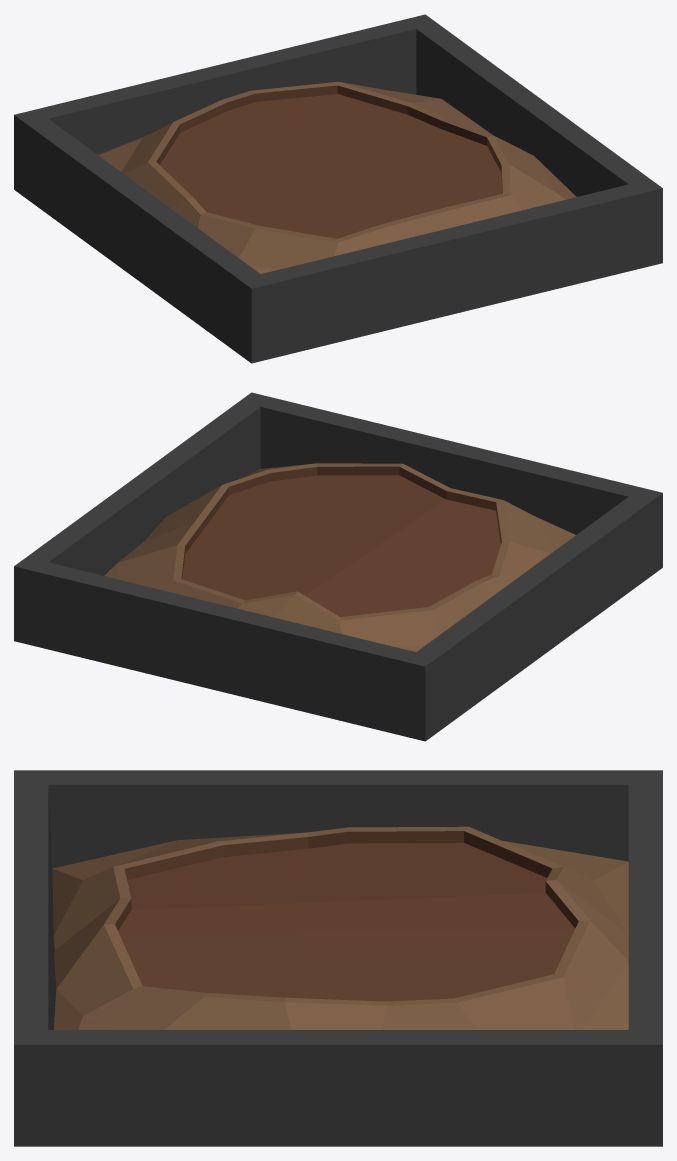
Rendered from LowPoly-FarmTile.fbx.
The picture shows the model from 3 angles, top to bottom: view 1: azimuth 30°, elevation 25°; view 2: azimuth 150°, elevation 25°; view 3: azimuth 270°, elevation 25°; orthographic projection. The views are drawn at different scales.
Visible parts, largest first — view 1: Cube; view 2: Cube; view 3: Cube.
Boxes of the visible parts, box(x1,y1,x2,y2) form: Cube: box(14, 14, 662, 363); Cube: box(14, 392, 662, 741); Cube: box(14, 770, 662, 1146).
Size of the model in its own units: 200 by 35.82 by 200.
Materials: 1 (1 with a texture image).
